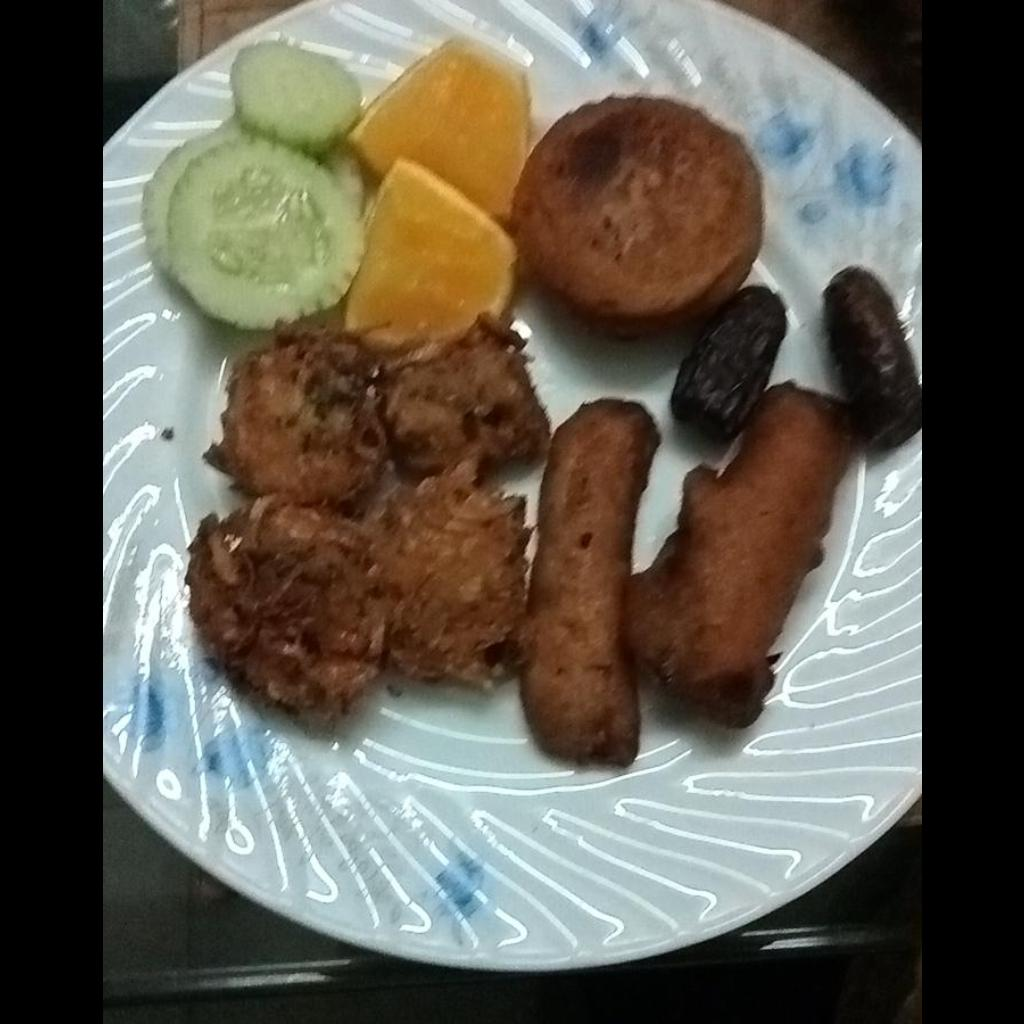beguni: (518, 386, 854, 767)
chop-alu: (522, 94, 768, 328)
cucumber: (134, 45, 363, 328)
dates: (675, 265, 916, 440)
orange: (338, 37, 525, 338)
peyaju: (184, 328, 545, 719)
